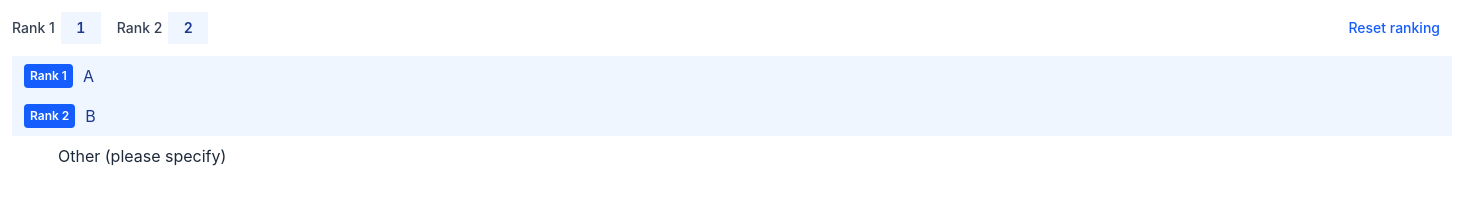
Scenario: RankingClickList 현재 언어 › English — 순위가 다 찬 안내가 영어다
This screenshot has width=1464, height=215.
Click the button "Other (please specify)".
click(142, 156)  # box x1=12 y1=136 x2=1452 y2=176
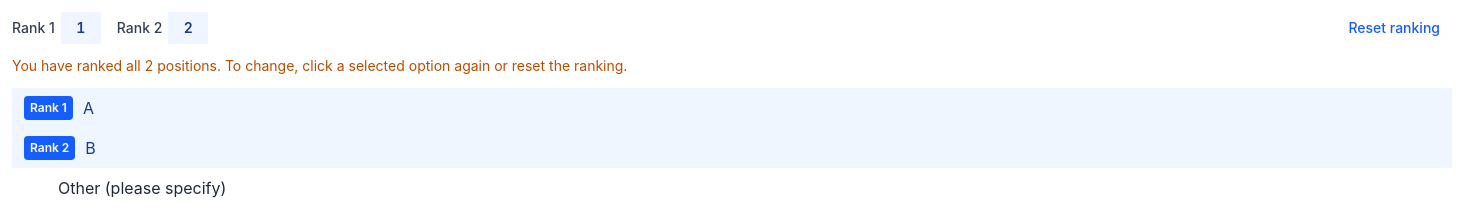
Check: the message shows "You have ranked all 2 positions. To change, click a selected option again or reset the ranking.", box x1=12 y1=57 x2=627 y2=74
